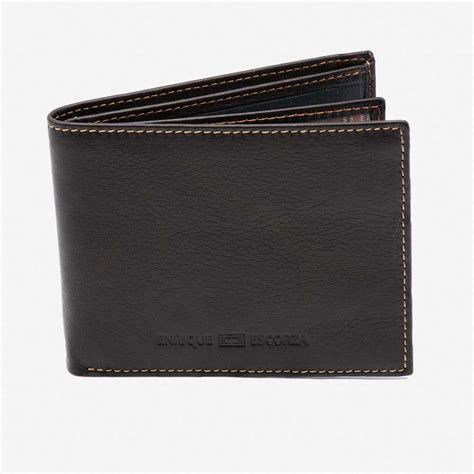cuero: (43, 50, 414, 379)
